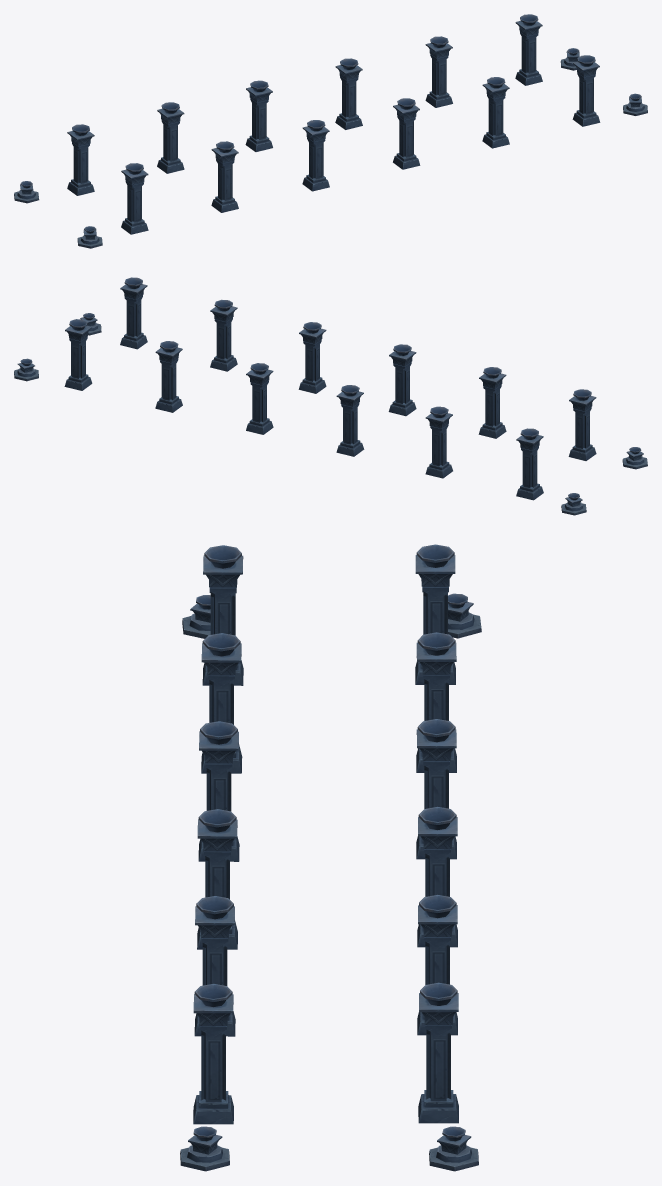
File: wujian46.fbx
The picture shows the model from 3 angles, top to bottom: view 1: azimuth 30°, elevation 25°; view 2: azimuth 150°, elevation 25°; view 3: azimuth 270°, elevation 25°; orthographic projection. The views are drawn at different scales.
Parts seen in each view (by area): view 1: wujian46; view 2: wujian46; view 3: wujian46.
Part boxes in pixels (left/top/right/bottom): wujian46: left=14, top=14, right=647, bottom=248; wujian46: left=14, top=277, right=647, bottom=515; wujian46: left=180, top=544, right=481, bottom=1171.
Size of the model in its own units: 5003 by 519 by 1145.
Materials: 1 (1 with a texture image).
